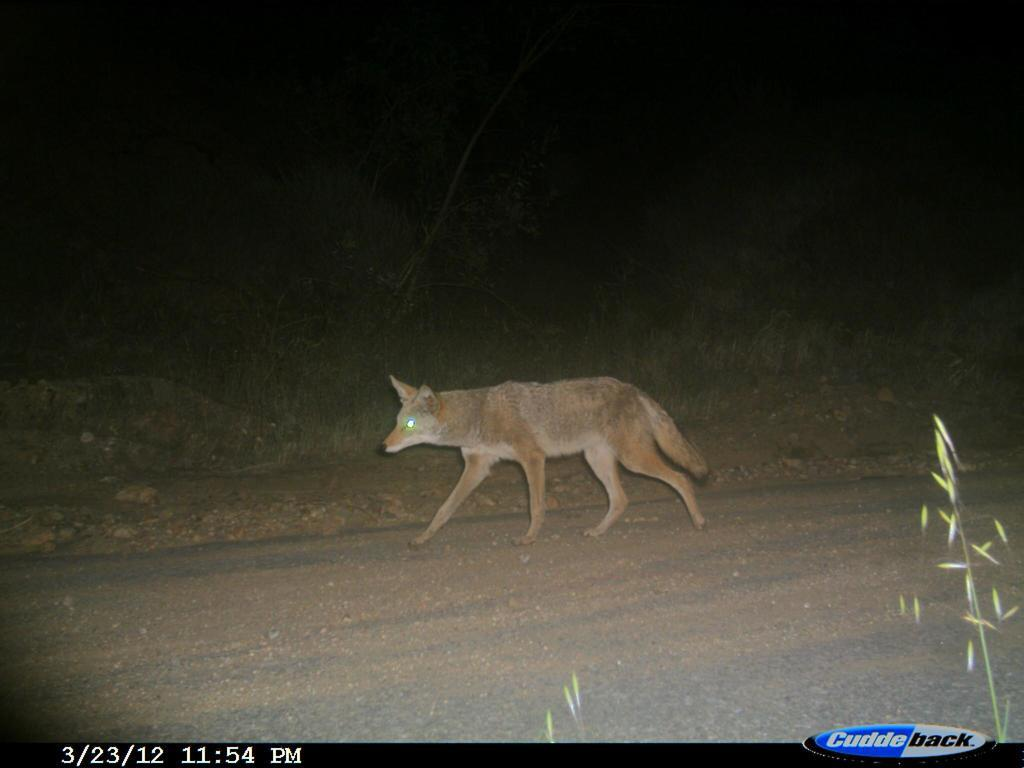coyote: (361, 364, 724, 551)
